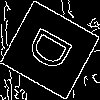D: (25, 25, 82, 79)
